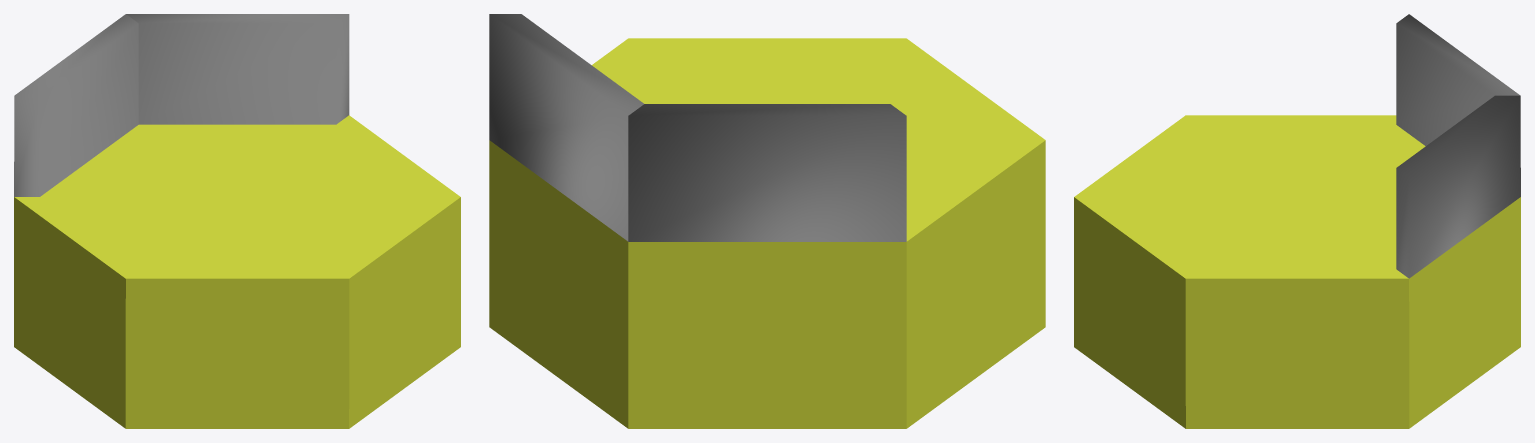
File: NormalTile2WallStage2.fbx
3 views of the same model, side by side, from view 1: azimuth 30°, elevation 25°; view 2: azimuth 150°, elevation 25°; view 3: azimuth 270°, elevation 25° (orthographic). The views are drawn at different scales.
Parts seen in each view (by area): view 1: NormalTile2WallStage2; view 2: NormalTile2WallStage2; view 3: NormalTile2WallStage2.
Boxes of the visible parts, x1,y1,x2,y2 form: NormalTile2WallStage2: (14,14,460,428); NormalTile2WallStage2: (489,14,1045,428); NormalTile2WallStage2: (1074,14,1520,428).
Size of the model in its own units: 173 by 124 by 200.
